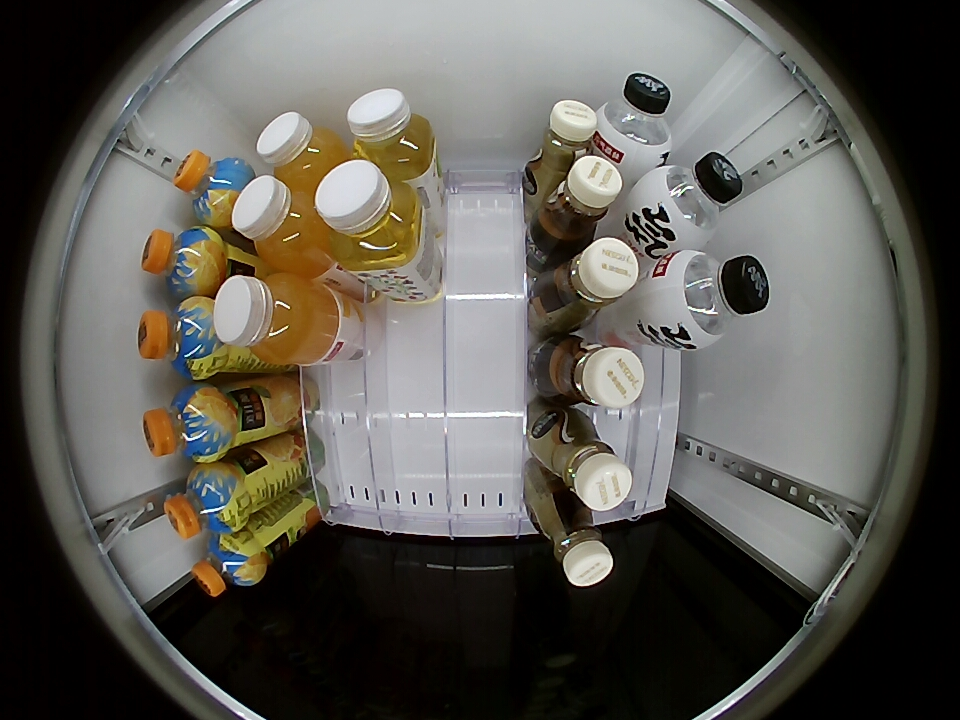chapai: (314, 159, 426, 273), (347, 89, 437, 180)
guolicheng: (137, 296, 226, 380), (142, 383, 233, 463), (173, 150, 256, 228), (164, 462, 246, 538), (141, 226, 224, 298), (192, 528, 267, 597)
kafei: (537, 412, 633, 512), (541, 237, 640, 328), (537, 154, 623, 246), (541, 334, 644, 409), (535, 497, 613, 587), (528, 99, 599, 182)
weic: (212, 273, 339, 365), (231, 176, 338, 275), (257, 112, 351, 193)
yuanqishui: (657, 250, 769, 349), (638, 151, 743, 248), (595, 73, 673, 163)
